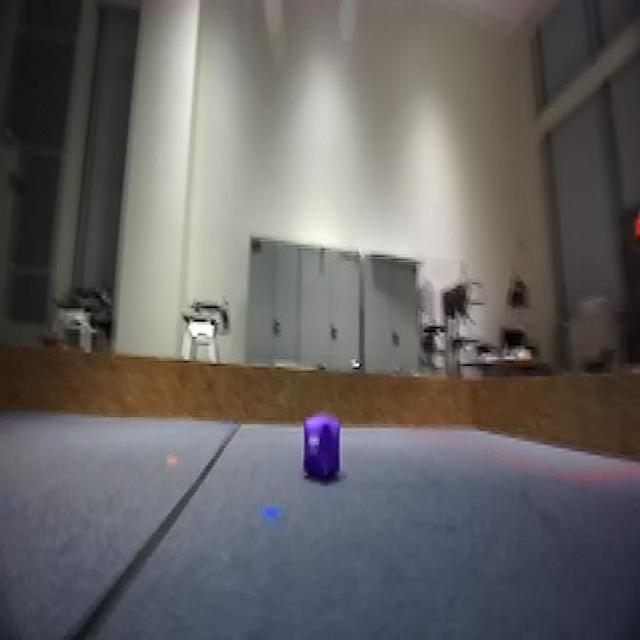frc_cube: (304, 421, 342, 485)
